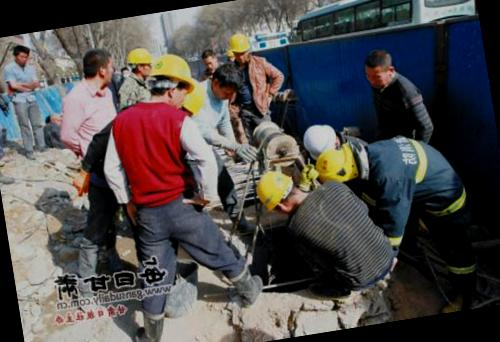no_helmet: (79, 40, 122, 93), (358, 45, 400, 94), (207, 59, 246, 104), (195, 44, 224, 74), (8, 41, 34, 68)
